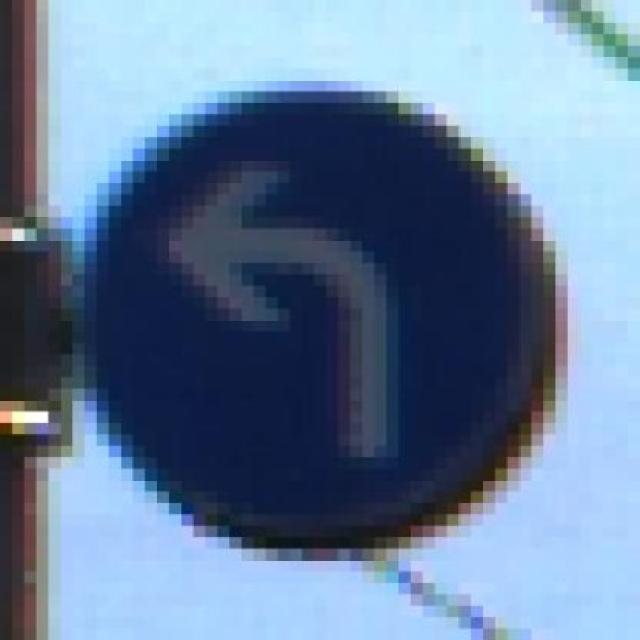Turn left ahead: (85, 57, 580, 572)
